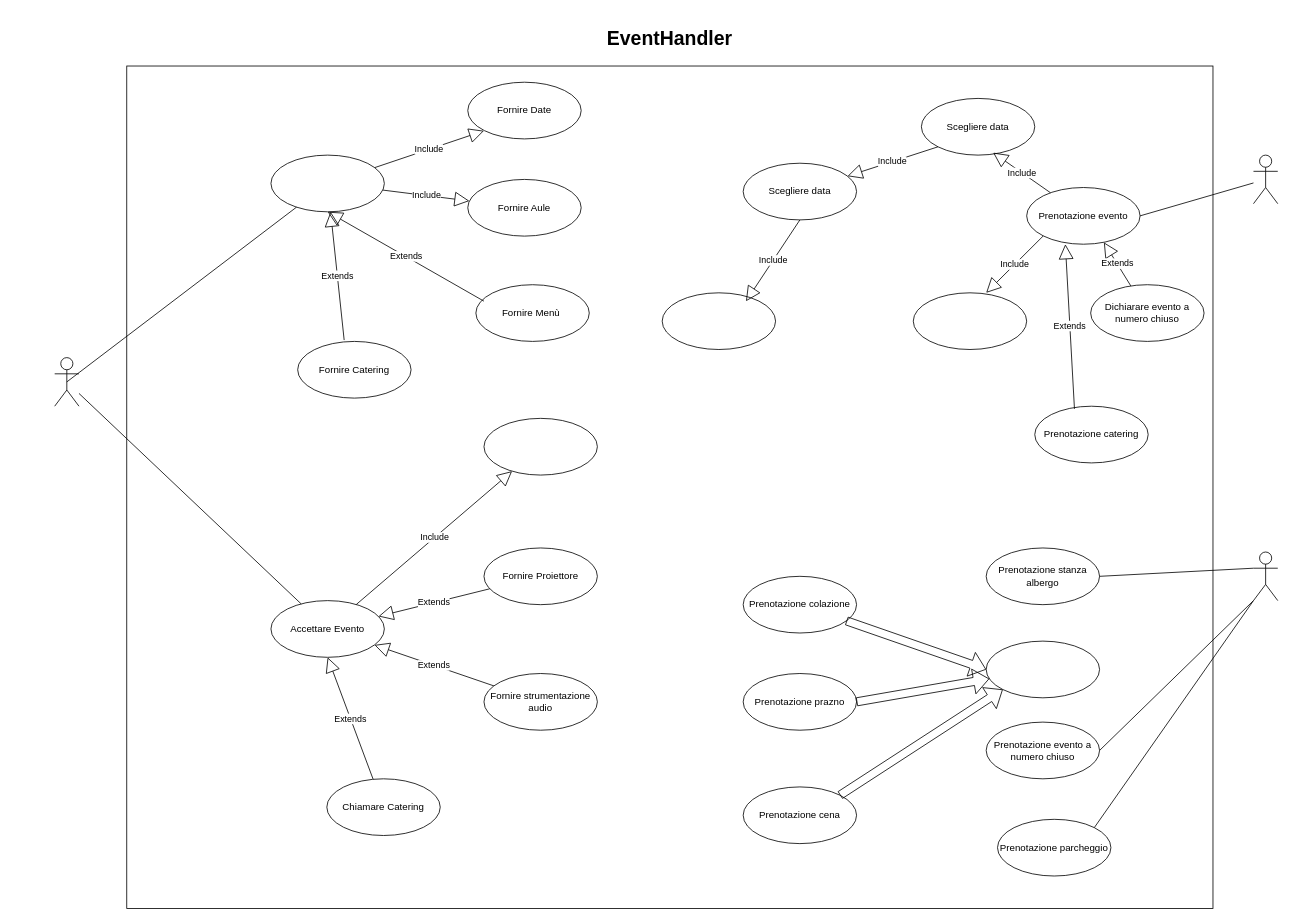
The diagram is 1307 pixels wide and 923 high, and some of its shapes have lost their labels. The centre of each missing label's shape, as x and y in pixels:
"Dichiarare nome evento" goes at point 718,321.
"Indicare numero di persone" goes at point 969,321.
"Noleggiatore" goes at point 1265,179.
"Partecipante" goes at point 1265,576.
"Prenotazione ristorante" goes at point 1042,669.
"Programmare evento" goes at point 327,183.
"Responsabile Foresteria" goes at point 66,381.
"Riservare Aule" goes at point 540,446.
